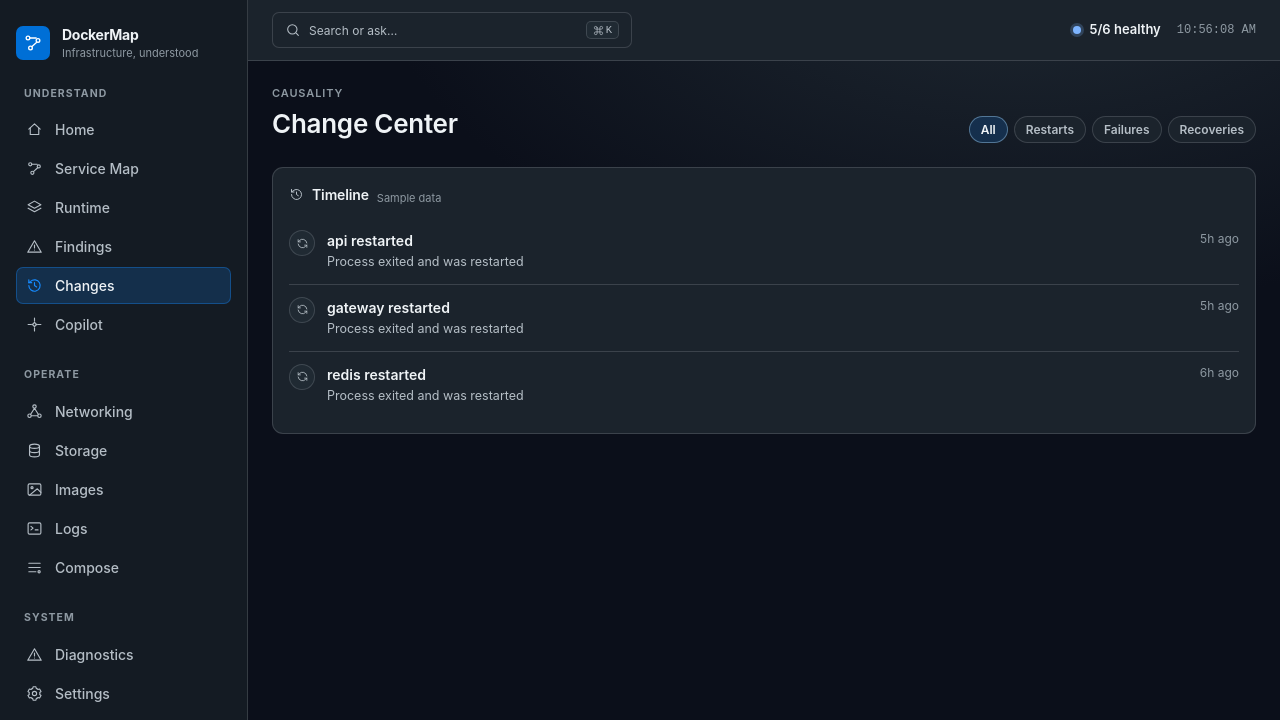
Test: history wiring — model/provenance held fixed while ONLY the mode flips (G-36) › distinguishes a filtered-empty sample feed from a truly empty sample feed
expect the list item with class "timeline-row" that starts with "api restarted" is shown: met, box [289,218,1239,285]
Click the button with class "filter-chip" showing "Recoveries": [1212, 129] box [1168,116,1256,142]
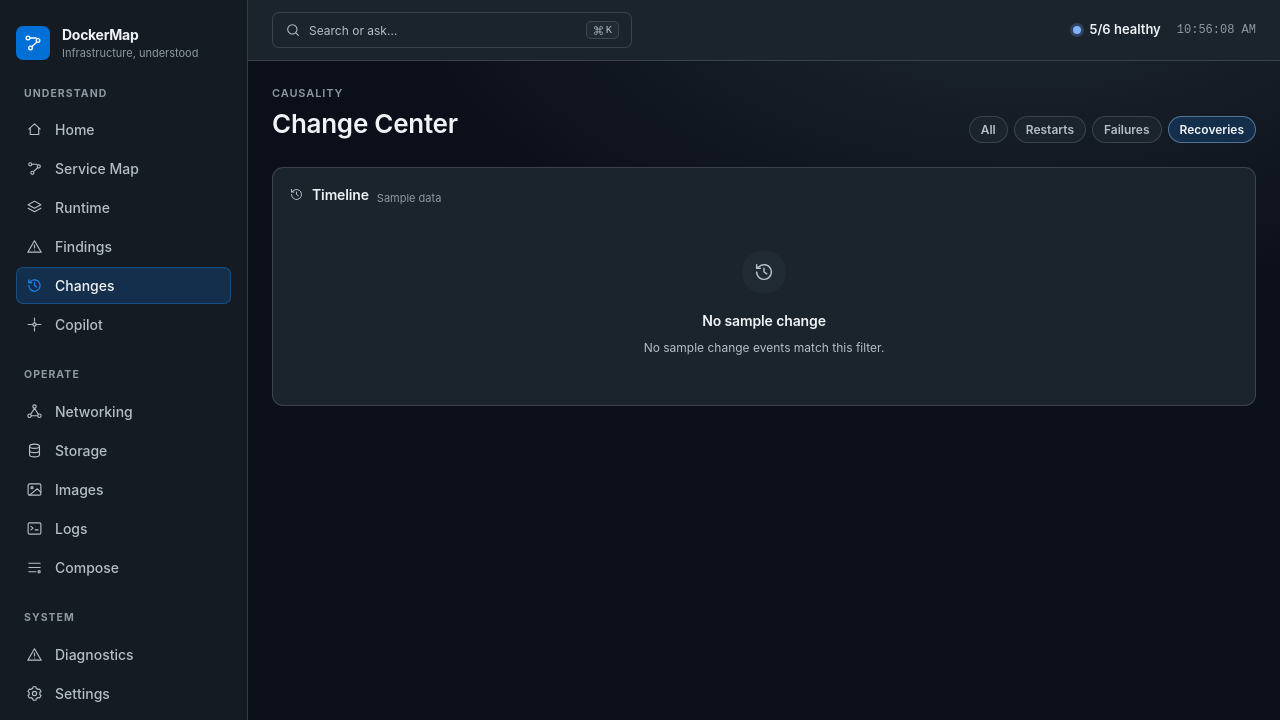
expect no list items with class "timeline-row" are shown: met
expect the text "No sample change events match this filter." is shown: met, box [644,339,884,357]
